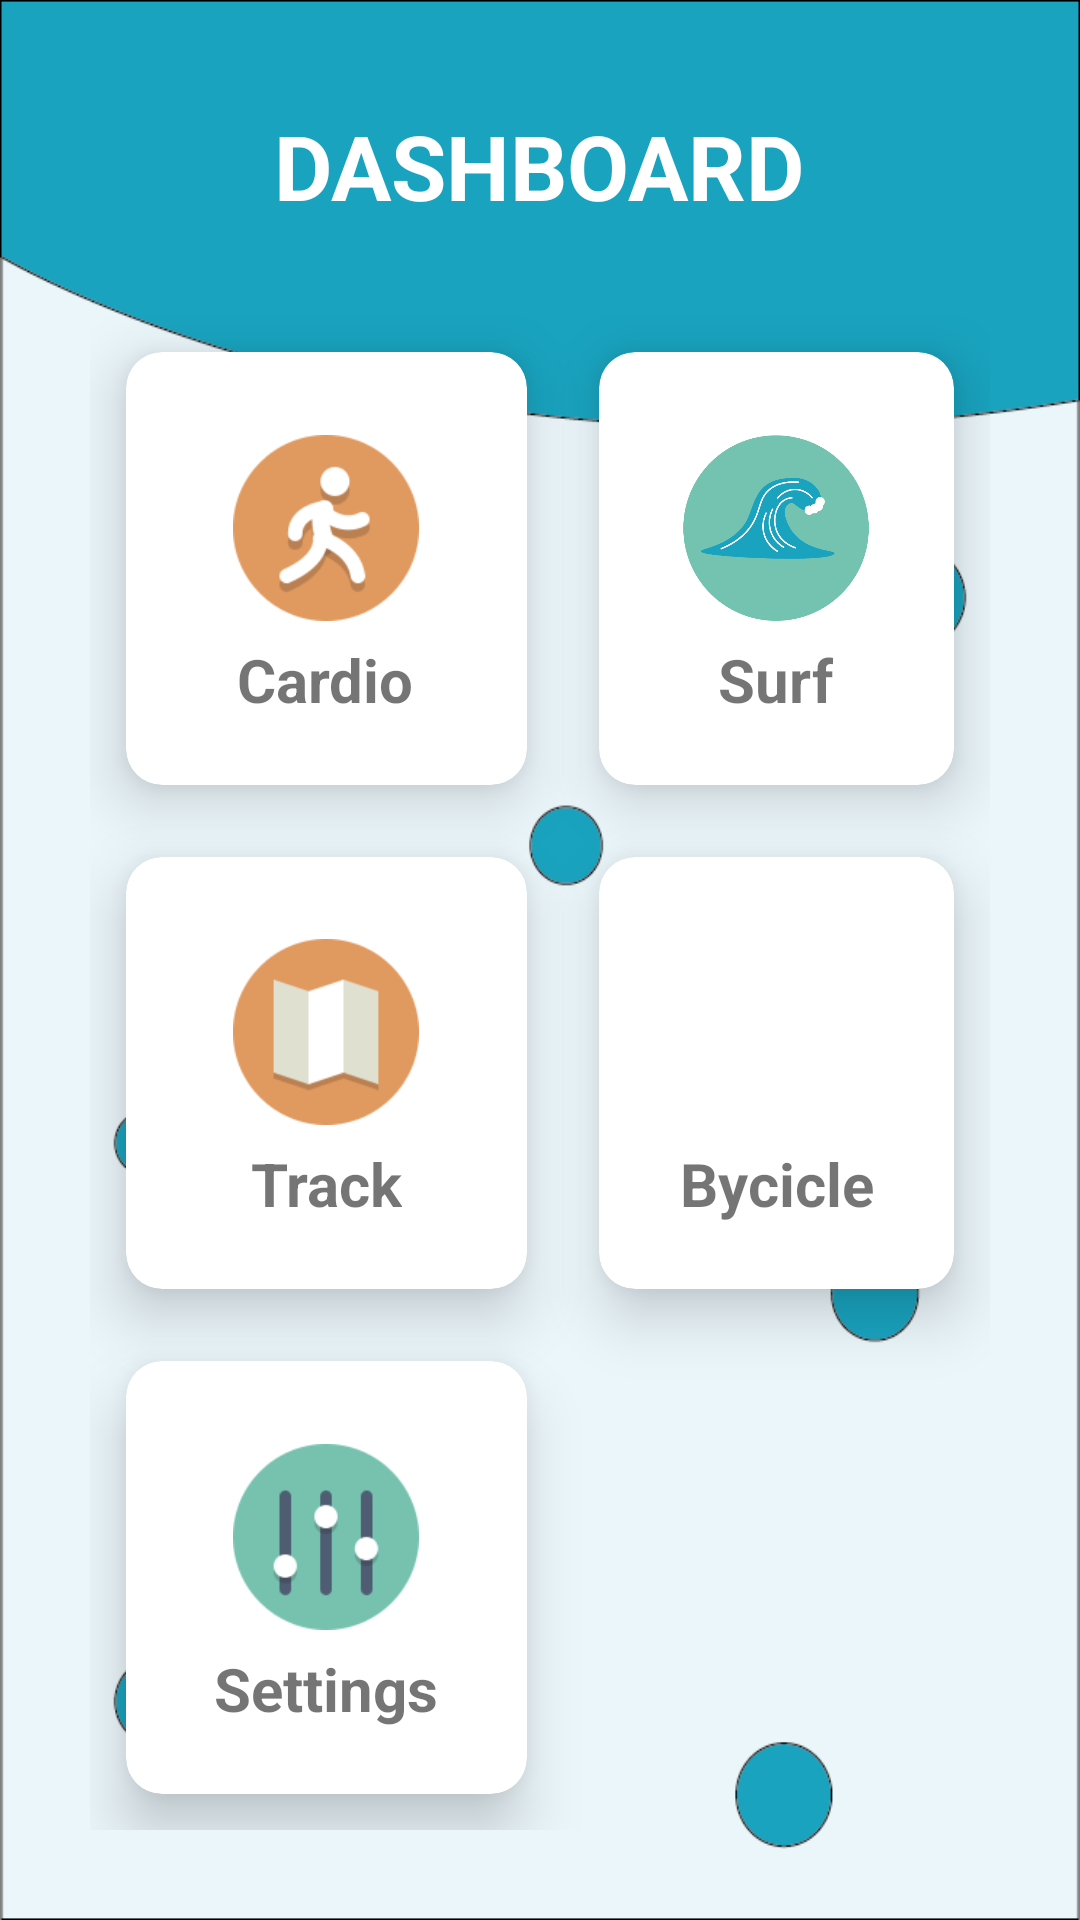

Where icons sit on this 1080x1920 app screen, as (x1=x1, y1=y1, x2=x2, y2=y2):
running: (x1=233, y1=435, x2=419, y2=621)
wave: (x1=683, y1=435, x2=869, y2=621)
